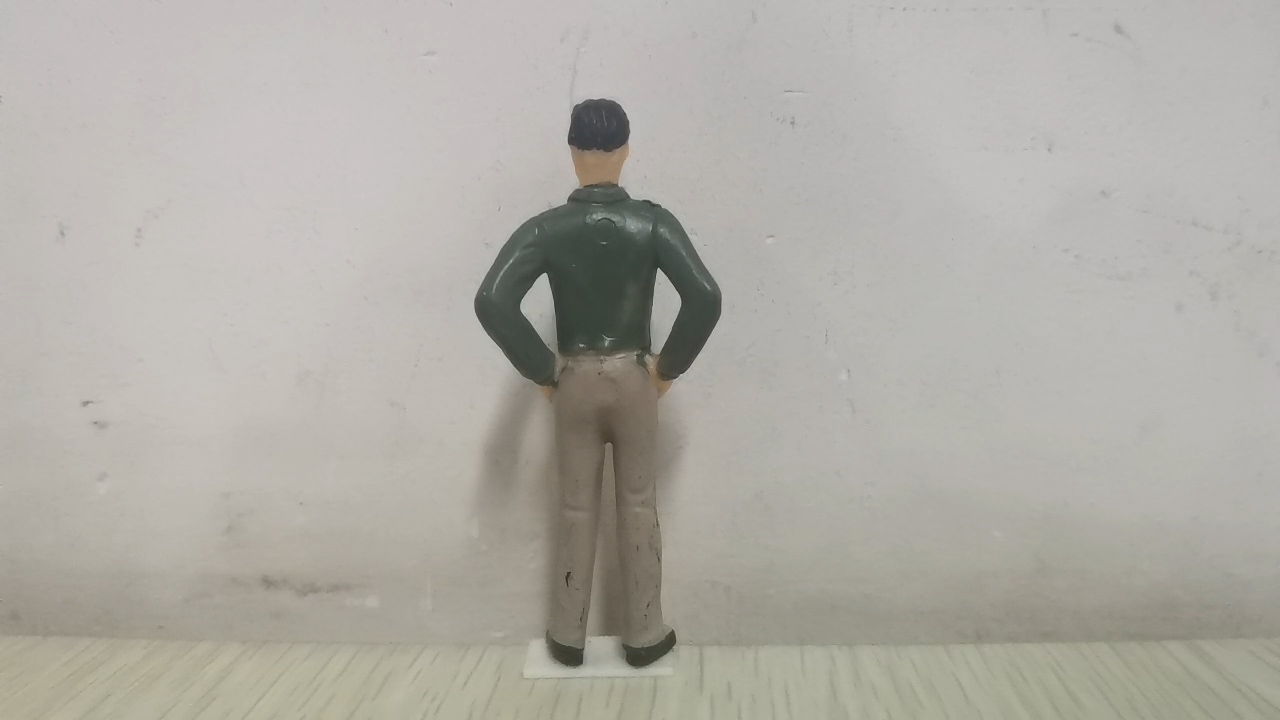person: (471, 96, 725, 669)
